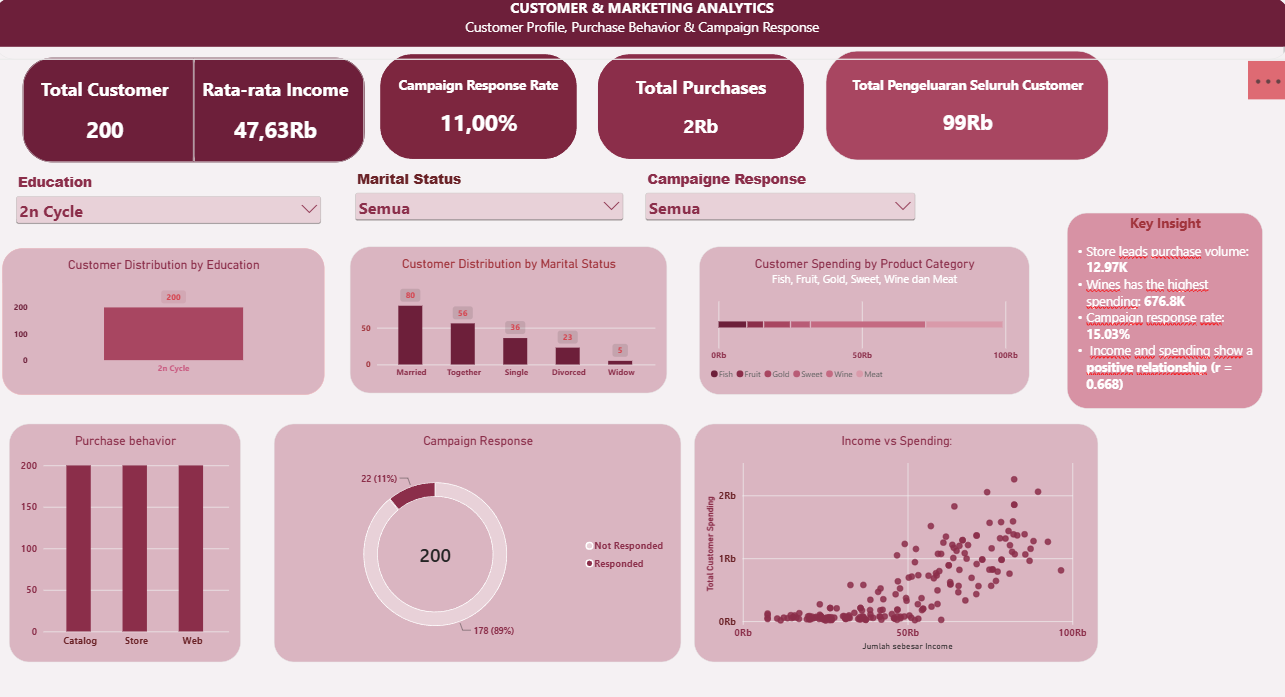

Layout of this report page (visuals, bound fields, positions):
{"tool":"powerbi","page":{"name":"Halaman 1","canvas":[1920,1080],"ordinal":0},"visuals":[{"type":"cardVisual","fields":{"Data":["CountNonNull(Customer_data.ID)","Avg(Customer_data.Income)"]},"box":[42.5,90,508.2,155.1],"z":0},{"type":"cardVisual","fields":{"Data":["Customer_data.Total Customer Spending"]},"box":[1232.5,80,419.9,162.2],"z":1000},{"type":"cardVisual","fields":{"Data":["Customer_data.Total Purchases"]},"box":[895,85,305.4,155.1],"z":2000},{"type":"cardVisual","fields":{"Data":["Customer_data.Campaign Response Rate"]},"box":[572.5,85,291.1,155.1],"z":3000},{"type":"columnChart","title":"Customer Distribution by Education","fields":{"Category":["Customer_data.Education"],"Y":["CountNonNull(Customer_data.ID)"]},"box":[12.5,372.5,477.2,217.1],"z":4000},{"type":"columnChart","title":"Customer Distribution by Marital Status","fields":{"Category":["Customer_data.Marital_Status"],"Y":["CountNonNull(Customer_data.ID)"]},"box":[527.6,371,470,217.1],"z":5000},{"type":"barChart","title":"Customer Spending by Product Category","fields":{"Y":["Sum(Customer_data.MntFishProducts)","Sum(Customer_data.MntFruits)","Sum(Customer_data.MntGoldProds)","Sum(Customer_data.MntSweetProducts)","Sum(Customer_data.MntWines)","Sum(Customer_data.MntMeatProducts)"]},"box":[1045.3,371,489.1,219.5],"z":6000},{"type":"donutChart","title":"Campaign Response","fields":{"Category":["Customer_data.Campaigne_Response"],"Y":["CountNonNull(Customer_data.ID)"]},"box":[414.7,633.4,603.6,353.1],"z":7000},{"type":"columnChart","title":"Purchase behavior","fields":{"Category":["Purchase_Channel.Channel"],"Y":["CountNonNull(Customer_data.Total_Purchases)"]},"box":[23.4,633.4,343.6,353.1],"z":8000},{"type":"scatterChart","title":"Income vs Spending:","fields":{"Category":["Customer_data.ID"],"X":["Sum(Customer_data.Income)"],"Y":["Customer_data.Total Customer Spending"]},"box":[1037.4,633.4,598.9,353.1],"z":9000},{"type":"slicer","fields":{"Values":["Customer_data.Education"]},"box":[27.5,260,462.5,85],"z":10000},{"type":"slicer","fields":{"Values":["Customer_data.Marital_Status"]},"box":[530,255,408,128.8],"z":11000},{"type":"slicer","fields":{"Values":["Customer_data.Campaigne_Response"]},"box":[960,255,410,90],"z":12000},{"type":"textbox","title":"CUSTOMER & MARKETING ANALYTICS","box":[0,0,1920,92.5],"z":13001},{"type":"textbox","box":[1653,93,267,150],"z":13002},{"type":"textbox","title":"Key Insight","box":[1590,320,290,290],"z":13003}]}

Visuals, with their boxes on the page's 1920x1080 design canvas (x1, y1, x2, y2). These are canvas units, not pixel positions in the 1285x697 screenshot, which may show the page scaled, cropped or inside an application window:
cardVisual - CountNonNull(Customer_data.ID) x Avg(Customer_data.Income): {"x1": 42, "y1": 90, "x2": 551, "y2": 245}
cardVisual - Customer_data.Total Customer Spending: {"x1": 1232, "y1": 80, "x2": 1652, "y2": 242}
cardVisual - Customer_data.Total Purchases: {"x1": 895, "y1": 85, "x2": 1200, "y2": 240}
cardVisual - Customer_data.Campaign Response Rate: {"x1": 572, "y1": 85, "x2": 864, "y2": 240}
"Customer Distribution by Education" columnChart: {"x1": 12, "y1": 372, "x2": 490, "y2": 590}
"Customer Distribution by Marital Status" columnChart: {"x1": 528, "y1": 371, "x2": 998, "y2": 588}
"Customer Spending by Product Category" barChart: {"x1": 1045, "y1": 371, "x2": 1534, "y2": 590}
"Campaign Response" donutChart: {"x1": 415, "y1": 633, "x2": 1018, "y2": 986}
"Purchase behavior" columnChart: {"x1": 23, "y1": 633, "x2": 367, "y2": 986}
"Income vs Spending:" scatterChart: {"x1": 1037, "y1": 633, "x2": 1636, "y2": 986}
slicer - Customer_data.Education: {"x1": 28, "y1": 260, "x2": 490, "y2": 345}
slicer - Customer_data.Marital_Status: {"x1": 530, "y1": 255, "x2": 938, "y2": 384}
slicer - Customer_data.Campaigne_Response: {"x1": 960, "y1": 255, "x2": 1370, "y2": 345}
"CUSTOMER & MARKETING ANALYTICS" textbox: {"x1": 0, "y1": 0, "x2": 1920, "y2": 92}
textbox: {"x1": 1653, "y1": 93, "x2": 1920, "y2": 243}
"Key Insight" textbox: {"x1": 1590, "y1": 320, "x2": 1880, "y2": 610}
